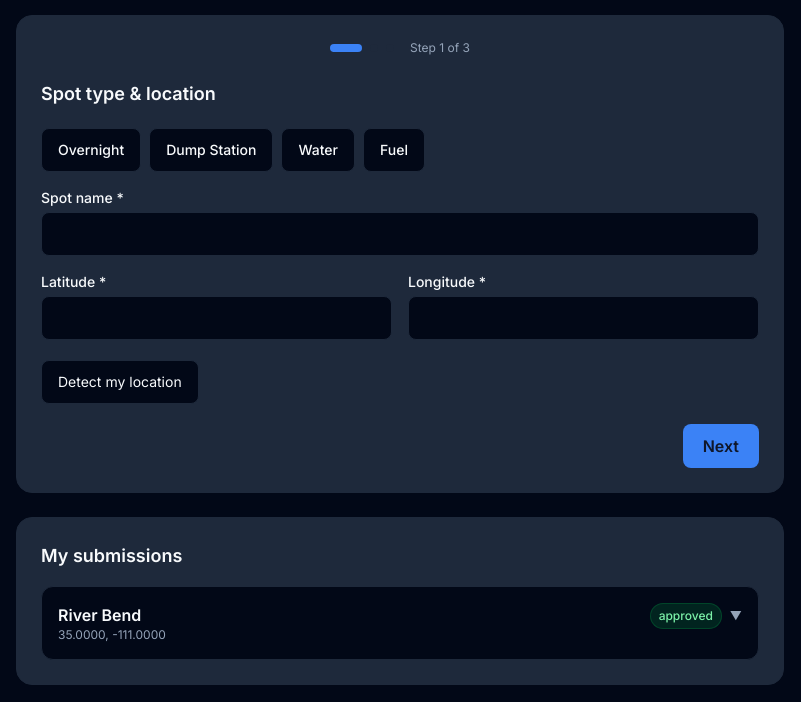
Test: SuggestSpotScreen › shows "View on map" button for approved submissions with publishedPinId
The width and height of the screenshot is (801, 702).
(page scrolled)
Expected: the text "River Bend" is shown, 58,605 -> 141,625
Expand the card
Click the button "River Bend 35.0000, -111.0000 approved ▼". click: (100, 615)
box: 41,586 -> 759,660
(page scrolled)
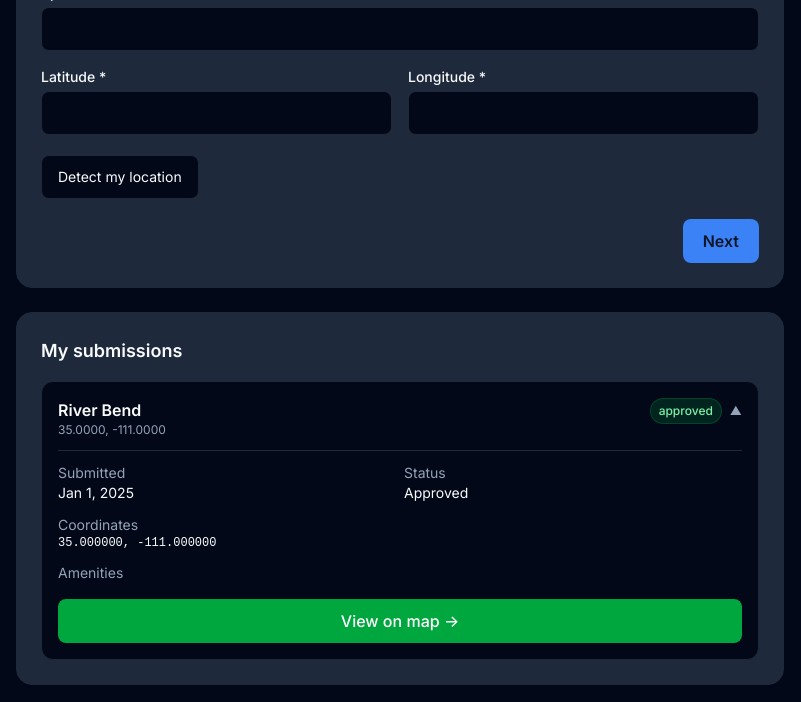
Expected: the button "View on map →" is shown, 58,599 -> 742,643
